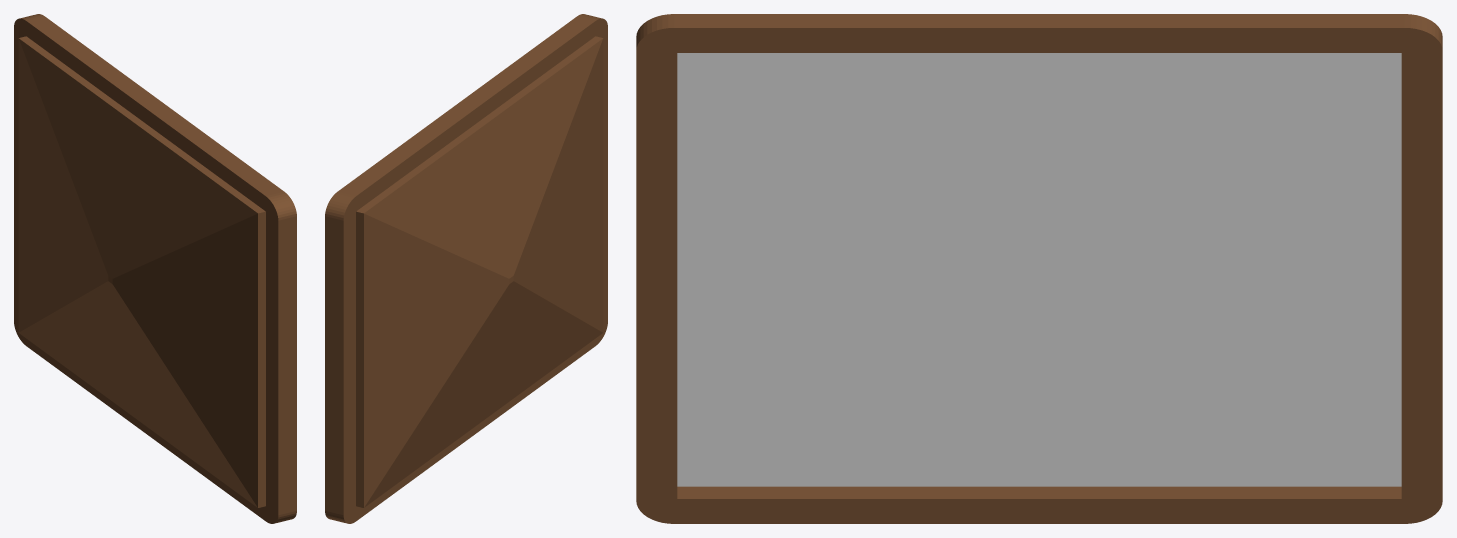
The model's file is Moldura para Quadros.fbx.
The picture shows the model from 3 angles, left to right: view 1: azimuth 30°, elevation 25°; view 2: azimuth 150°, elevation 25°; view 3: azimuth 270°, elevation 25°; orthographic projection. The views are drawn at different scales.
Visible parts, largest first — view 1: Cube; view 2: Cube; view 3: Cube.
Boxes of the visible parts, bbox=[...] form: Cube: bbox=[14, 14, 296, 523]; Cube: bbox=[325, 14, 607, 523]; Cube: bbox=[636, 14, 1442, 523].
Size of the model in its own units: 202 by 1155 by 1702.
